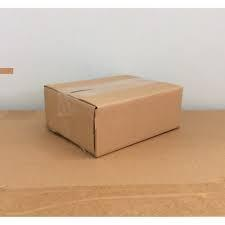box: (45, 73, 184, 160)
